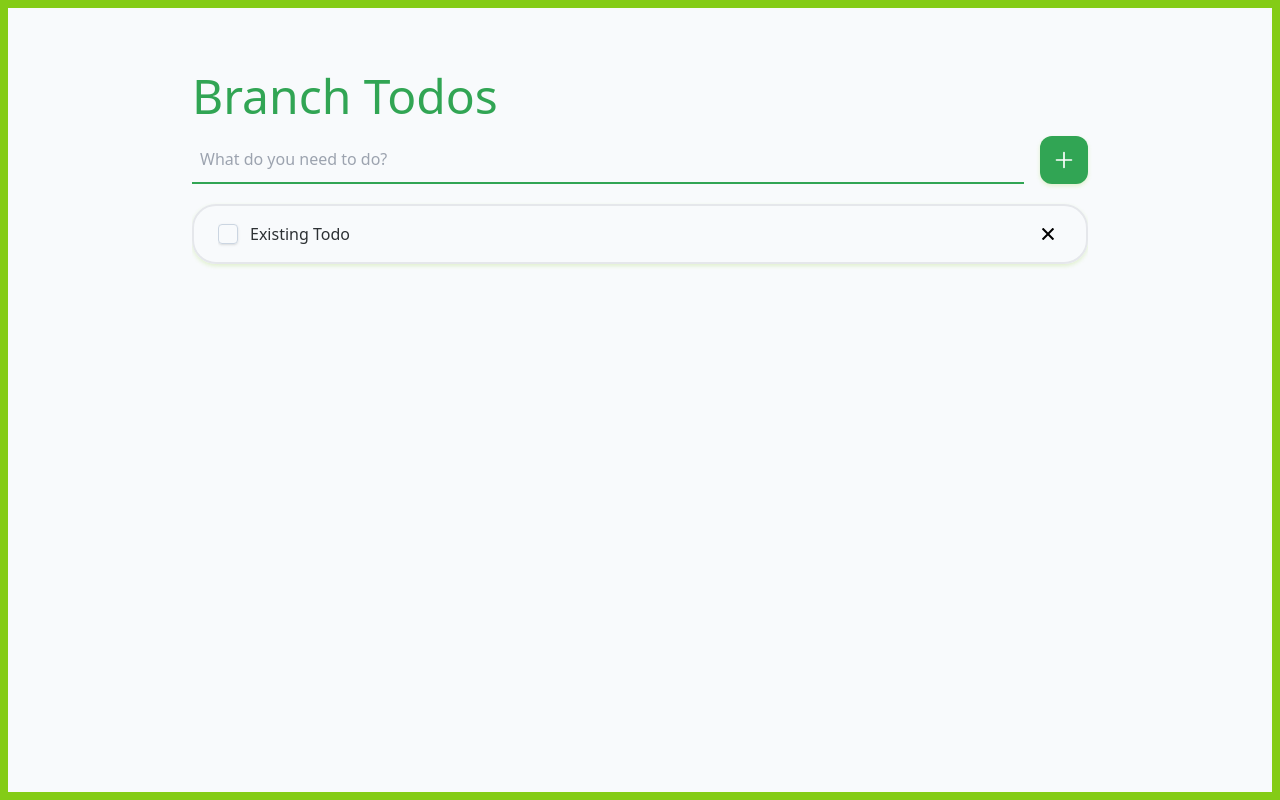
Test: App › Form Validation › clears error when input becomes valid
The width and height of the screenshot is (1280, 800).
# Submit invalid input
In the field with test id "todo-input": (608, 160) [192, 136, 1024, 184], type "a"
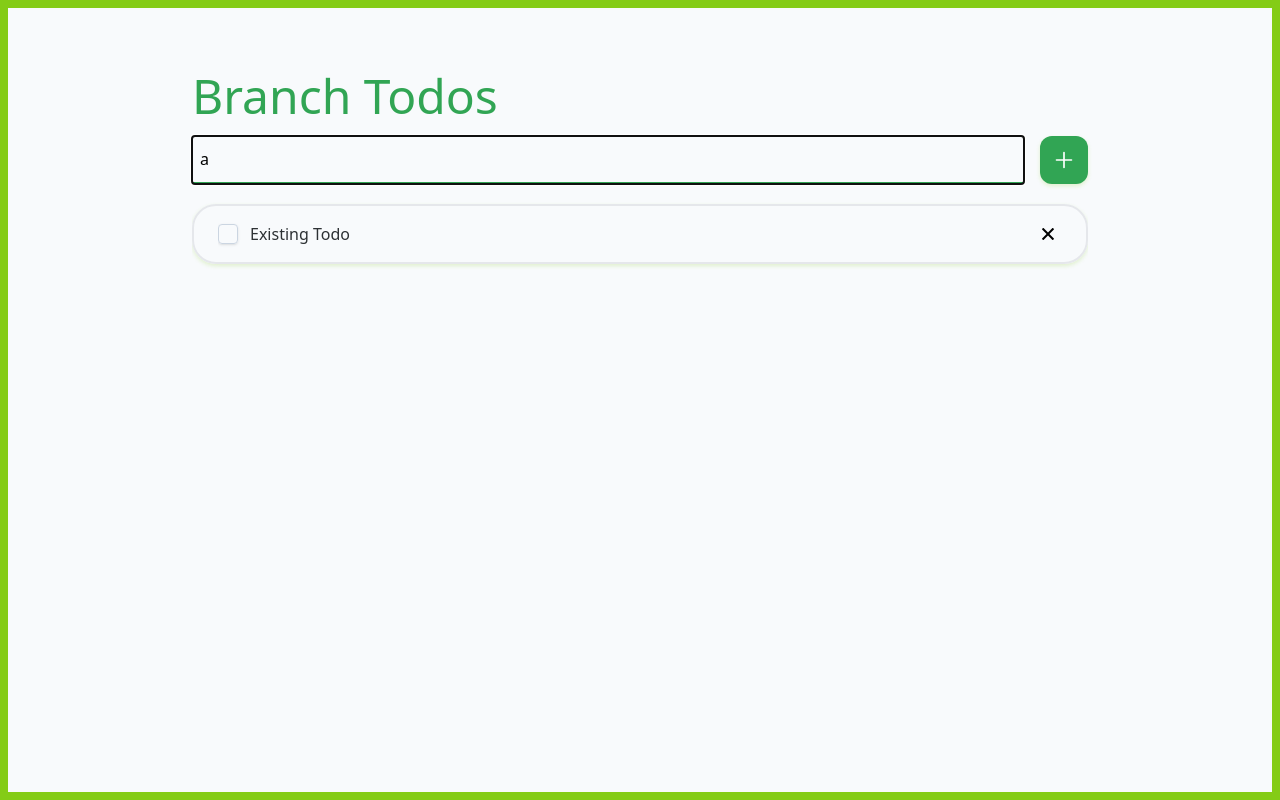
Press Enter
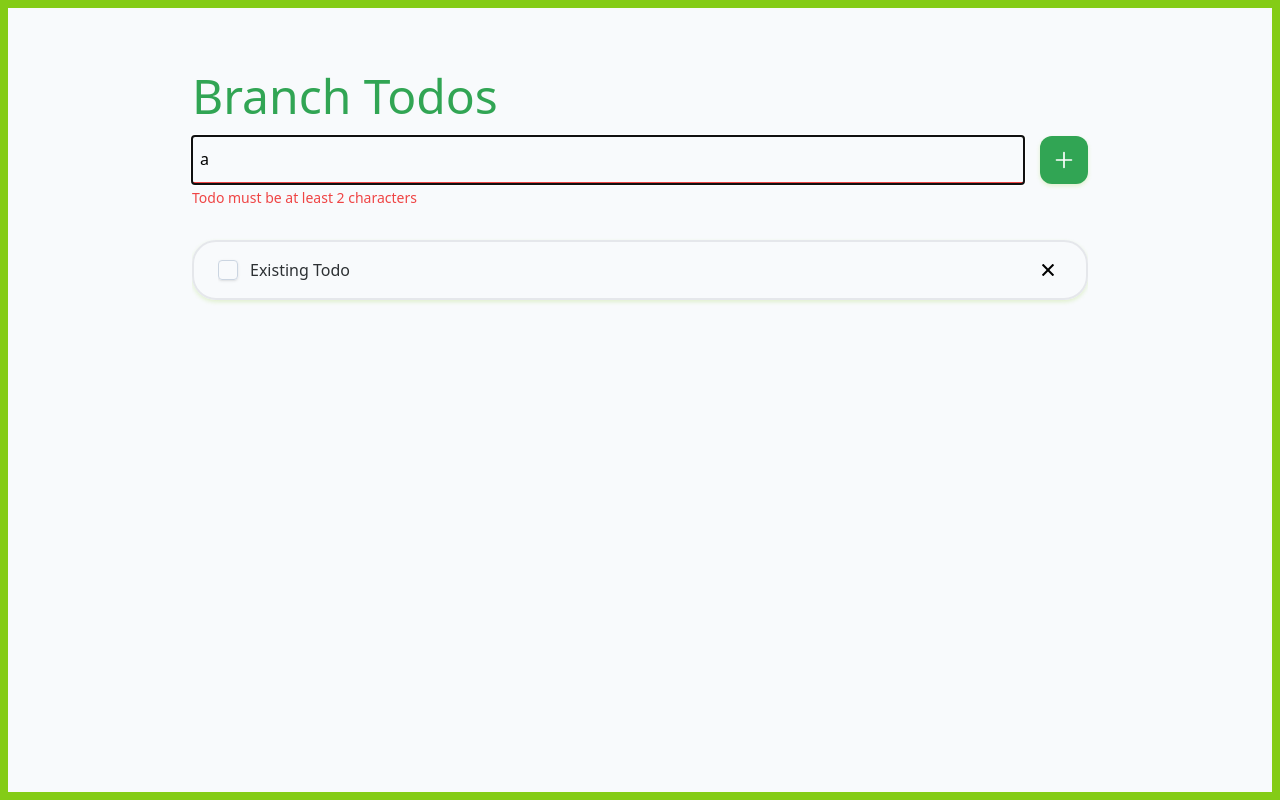
Result: the text "Todo must be at least 2 characters" is shown at [192, 188, 417, 207]
# Fix the input
In the field with test id "todo-input": (608, 160) [192, 136, 1024, 184], type " valid todo"
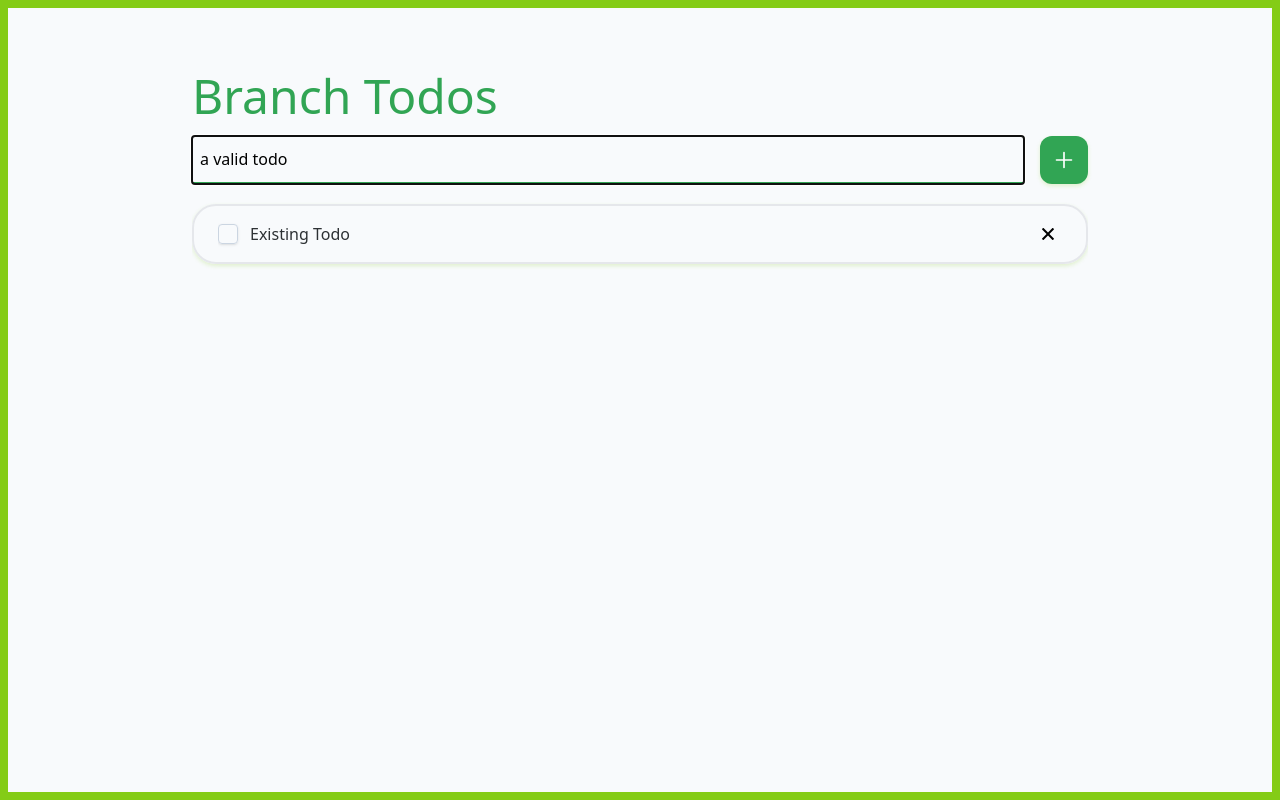
Press Enter
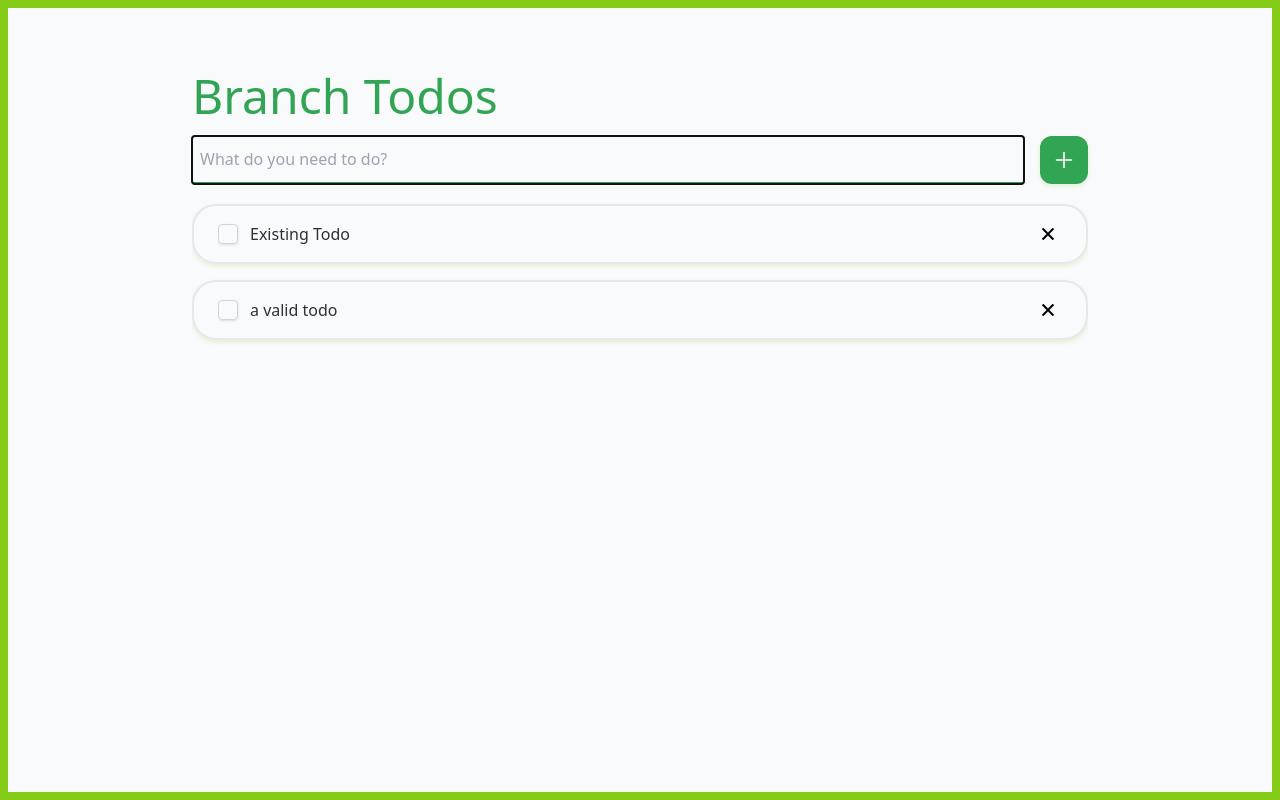
Expected: the text "Todo must be at least 2 characters" is not shown
Result: the text "a valid todo" is shown at [250, 298, 338, 322]
